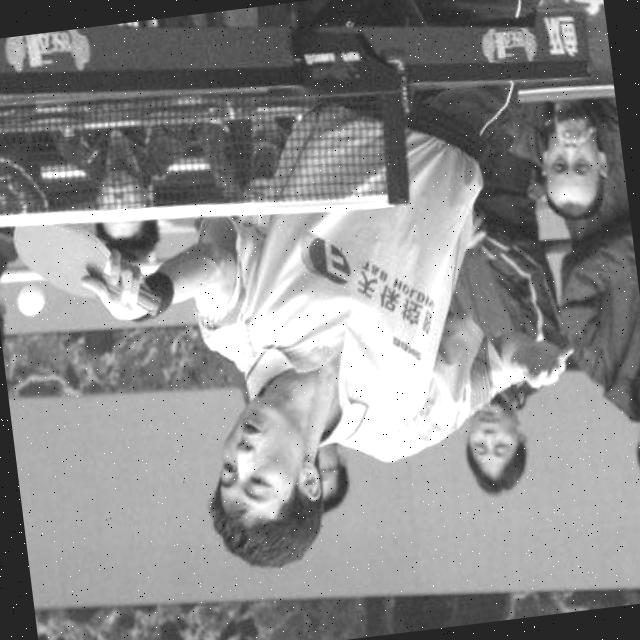ping-pong-ball: (15, 281, 46, 315)
